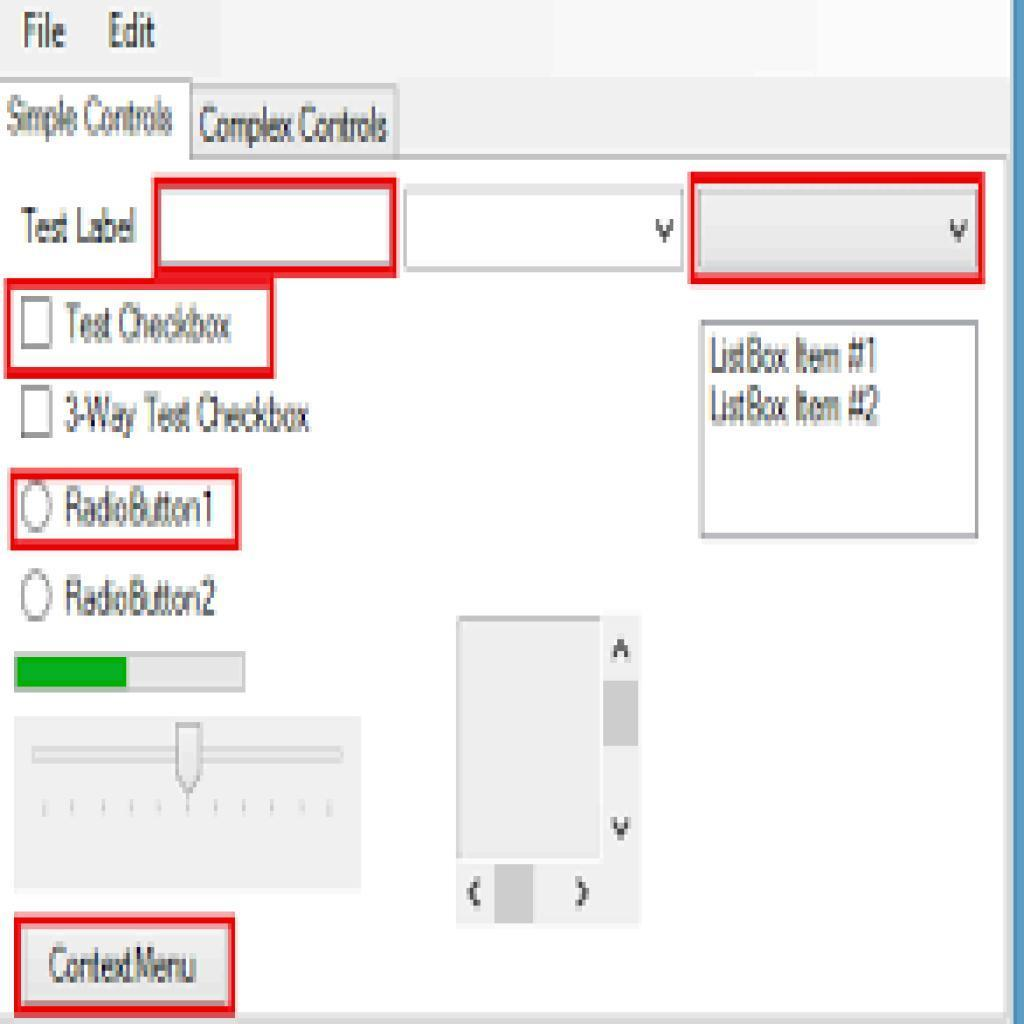button: (14, 914, 238, 1021), (193, 83, 402, 158)
checkbox: (21, 385, 55, 441), (21, 297, 54, 350)
dropdown: (404, 186, 687, 272), (698, 188, 978, 271)
radio: (20, 480, 55, 537), (19, 568, 54, 620)
slider: (17, 721, 359, 796)
